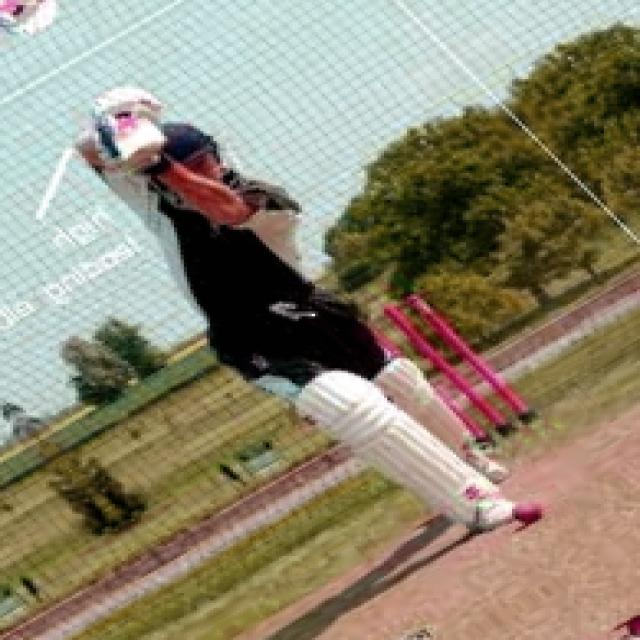toe: (113, 132, 169, 163)
